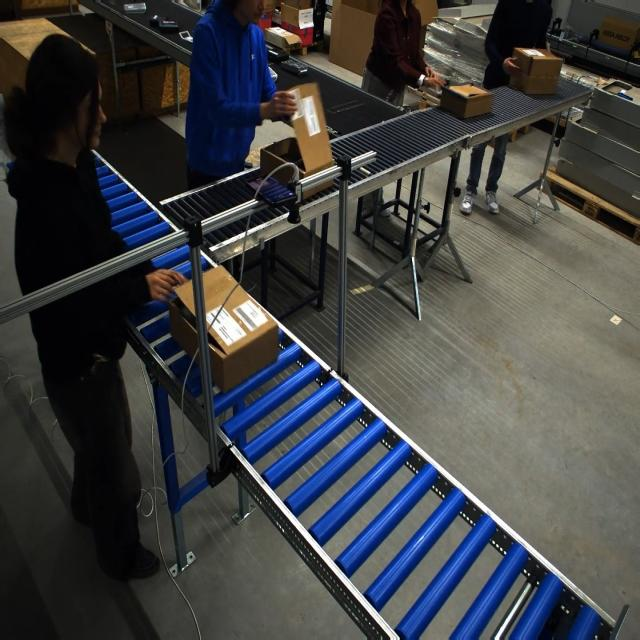box: (168, 264, 278, 392), (260, 80, 336, 199), (507, 46, 562, 95), (439, 83, 492, 119)
product: (280, 58, 310, 76), (266, 46, 289, 64), (123, 2, 147, 13), (159, 20, 179, 31), (179, 31, 193, 43)
